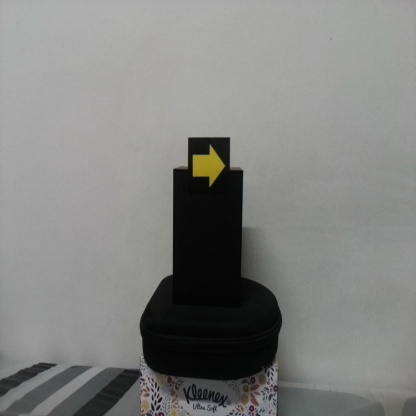id_3: (187, 138, 230, 197)
